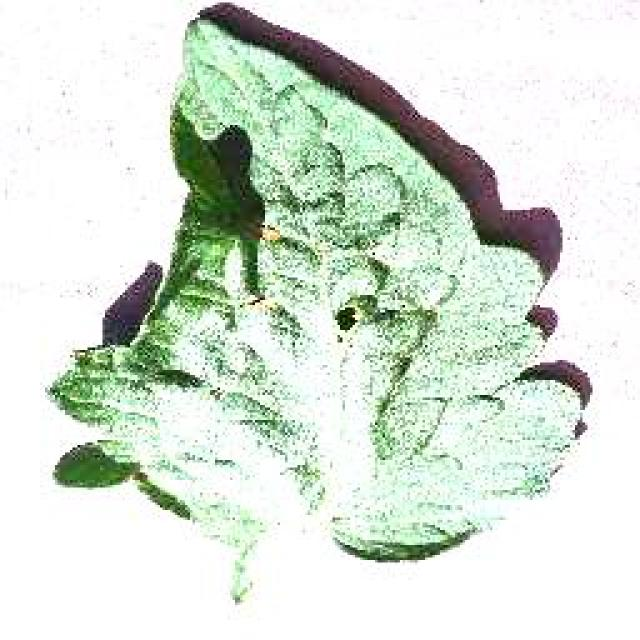Tomato___Target_Spot: (50, 20, 580, 598)
